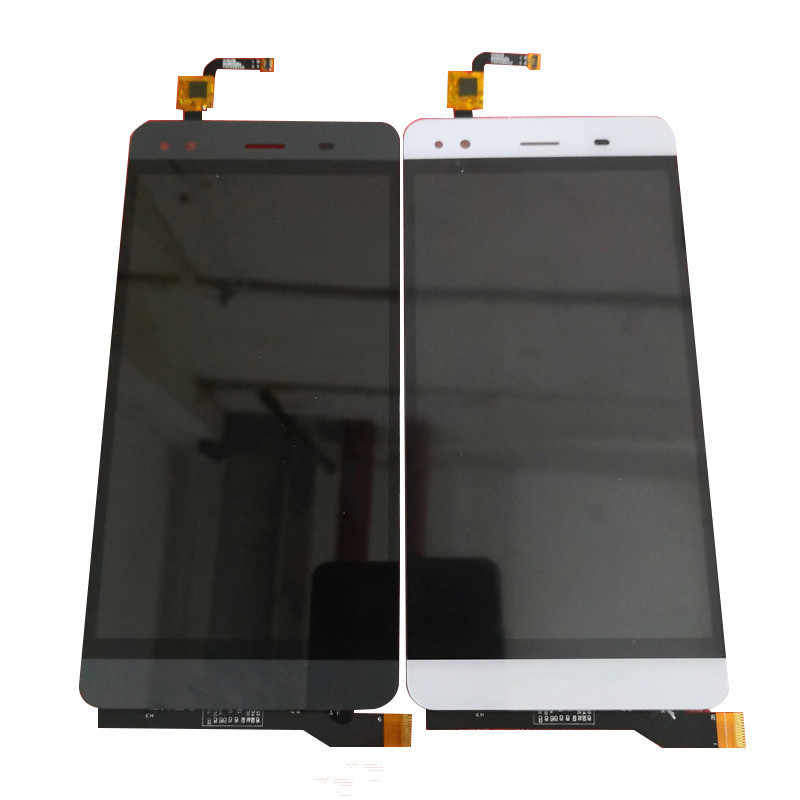Phone: (403, 48, 751, 753), (74, 51, 418, 753)
